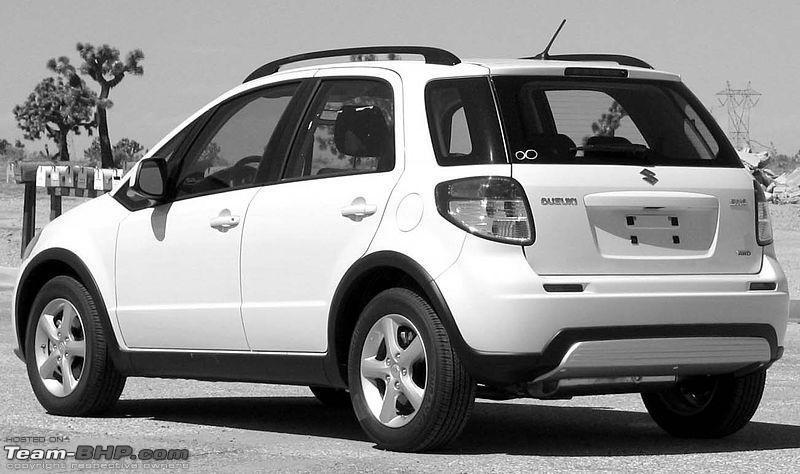car: (14, 19, 793, 452)
